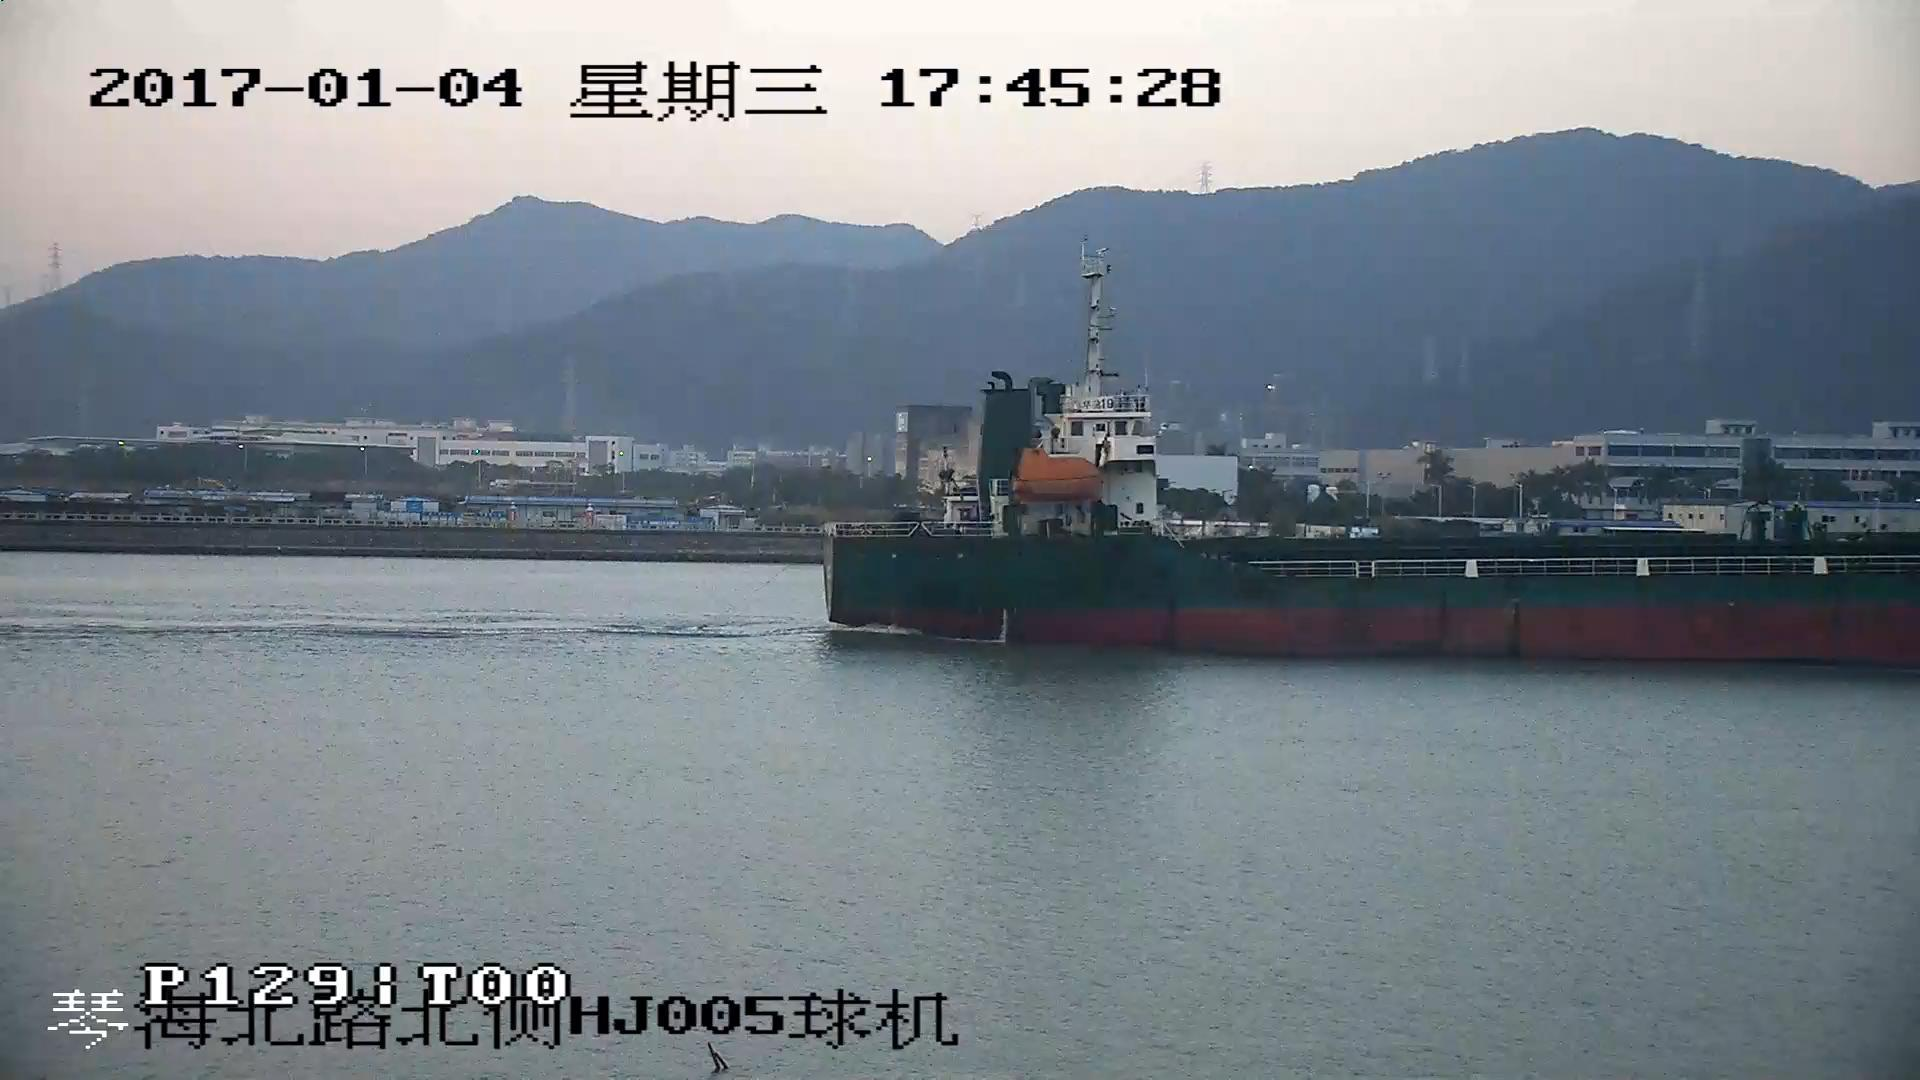Ship: (827, 251, 1920, 662)
